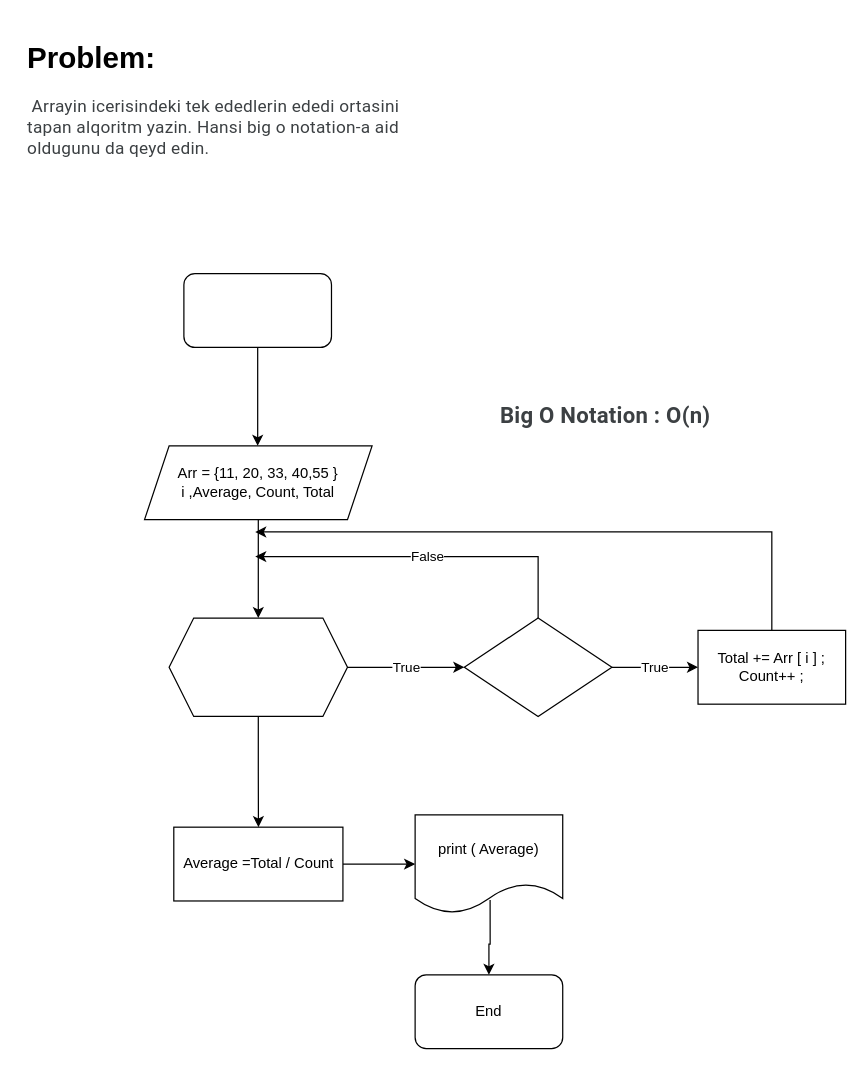
The diagram is 867 pixels wide and 1070 high, and some of its shapes have lost their labels. The shapes that lost their labels are listed below. From the top down, each one's centre as x and y in pixels, then its label:
At point (257, 309): "Start".
At point (257, 666): "i=0;i < Arr.length; i++".
At point (537, 666): "Arr [ i ] % 2==1".
